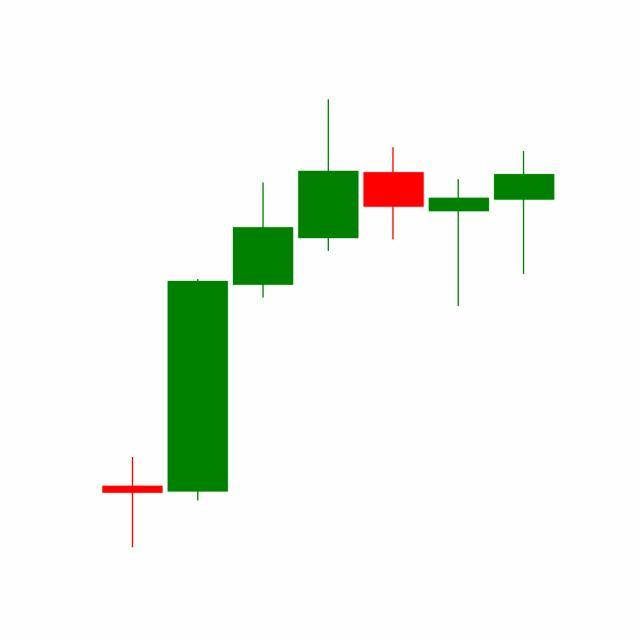Hikkake Pattern: (165, 100, 492, 507)
